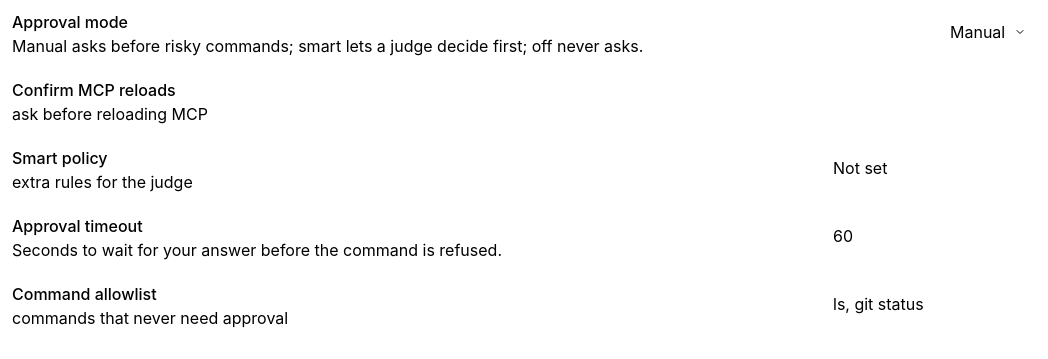
Scenario: schema page › an invalid number is not sent
Replace the text in the field labelled "Approval timeout" with "soon": (929, 236) left=822, top=221, right=1036, bottom=251
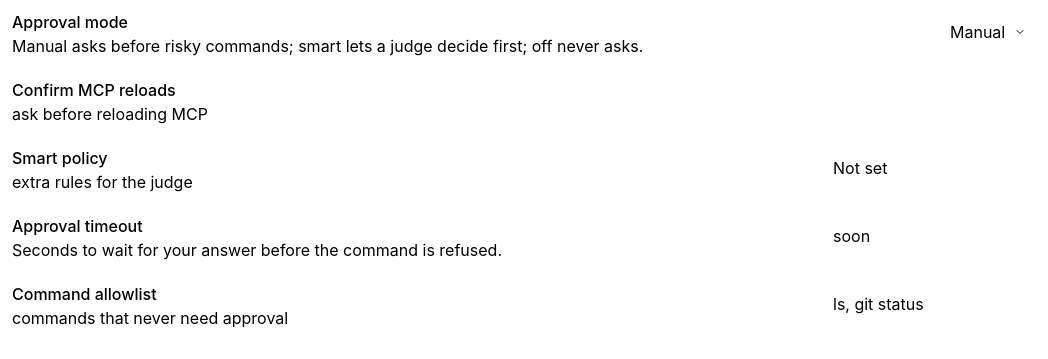
Leave the field labelled "Approval timeout", box left=822, top=221, right=1036, bottom=251
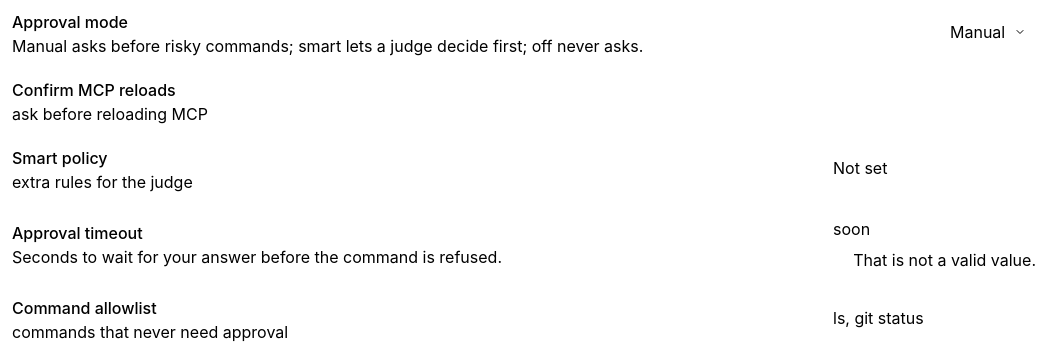
Now the text "That is not a valid value." is shown, box left=853, top=248, right=1036, bottom=272
